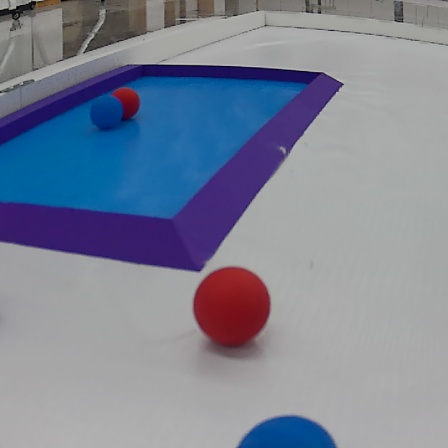blue: (232, 406, 340, 448), (88, 93, 125, 134)
blue_aim: (0, 60, 344, 278)
red: (193, 265, 274, 351), (111, 83, 143, 122)
